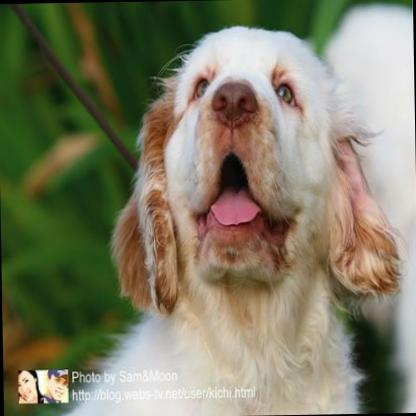clumber: (59, 20, 412, 416)
